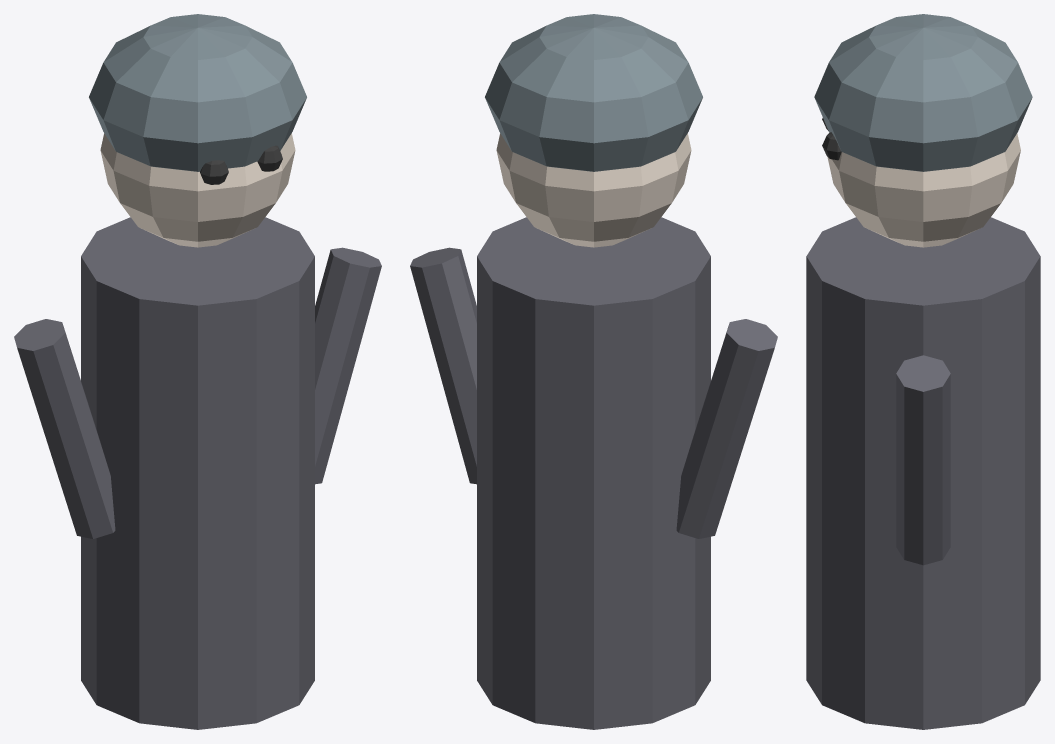
File: hero_beethoven.glb
The picture shows the model from 3 angles, left to right: view 1: azimuth 30°, elevation 25°; view 2: azimuth 150°, elevation 25°; view 3: azimuth 270°, elevation 25°; orthographic projection.
Parts seen in each view (by area): view 1: hero_beethoven_Body, hero_beethoven_Wig, hero_beethoven_Head, hero_beethoven_Arm, hero_beethoven_Arm.001; view 2: hero_beethoven_Body, hero_beethoven_Wig, hero_beethoven_Head, hero_beethoven_Arm, hero_beethoven_Arm.001; view 3: hero_beethoven_Body, hero_beethoven_Wig, hero_beethoven_Head, hero_beethoven_Arm.001.
Part boxes in pixels (box(x1,y1,x2,y2)): hero_beethoven_Body: box(81, 217, 314, 729); hero_beethoven_Wig: box(89, 14, 306, 171); hero_beethoven_Head: box(100, 133, 295, 247); hero_beethoven_Arm: box(14, 319, 115, 538); hero_beethoven_Arm.001: box(315, 247, 381, 484); hero_beethoven_Body: box(477, 217, 710, 729); hero_beethoven_Wig: box(485, 14, 702, 171); hero_beethoven_Head: box(496, 133, 691, 247); hero_beethoven_Arm: box(676, 319, 777, 538); hero_beethoven_Arm.001: box(410, 247, 476, 484); hero_beethoven_Body: box(806, 217, 1040, 729); hero_beethoven_Wig: box(814, 14, 1032, 171); hero_beethoven_Head: box(827, 133, 1020, 247); hero_beethoven_Arm.001: box(896, 355, 950, 565).
Size of the model in its own units: 1.07 by 1.85 by 0.6.
